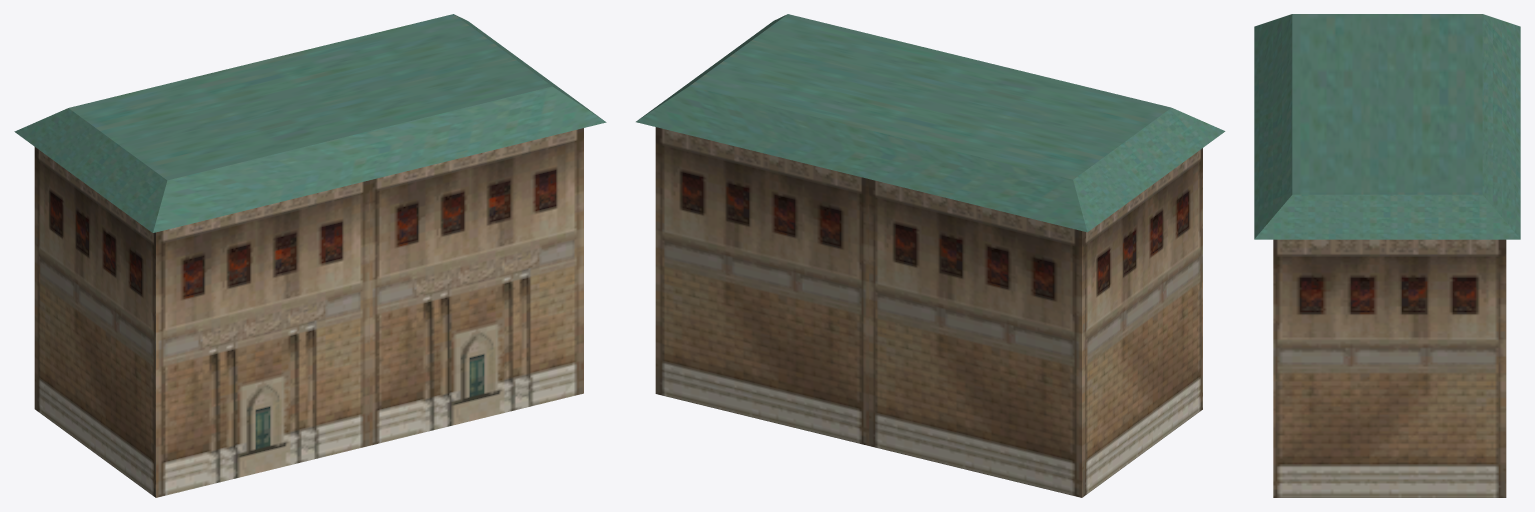
The model's file is thm_nboo_thed_imprv_building_s10_l3.fbx.
3 renders of one model, left to right at view 1: azimuth 30°, elevation 25°; view 2: azimuth 150°, elevation 25°; view 3: azimuth 270°, elevation 25°, orthographic. The views are drawn at different scales.
Parts seen in each view (by area): view 1: mesh_node; view 2: mesh_node; view 3: mesh_node.
Boxes of the visible parts, x1,y1,x2,y2 form: mesh_node: (14,14,606,497); mesh_node: (636,14,1225,497); mesh_node: (1254,14,1520,497).
Bounding box in the file's own units: 39.69 × 25.5 × 21.
1 material, 1 textured.
